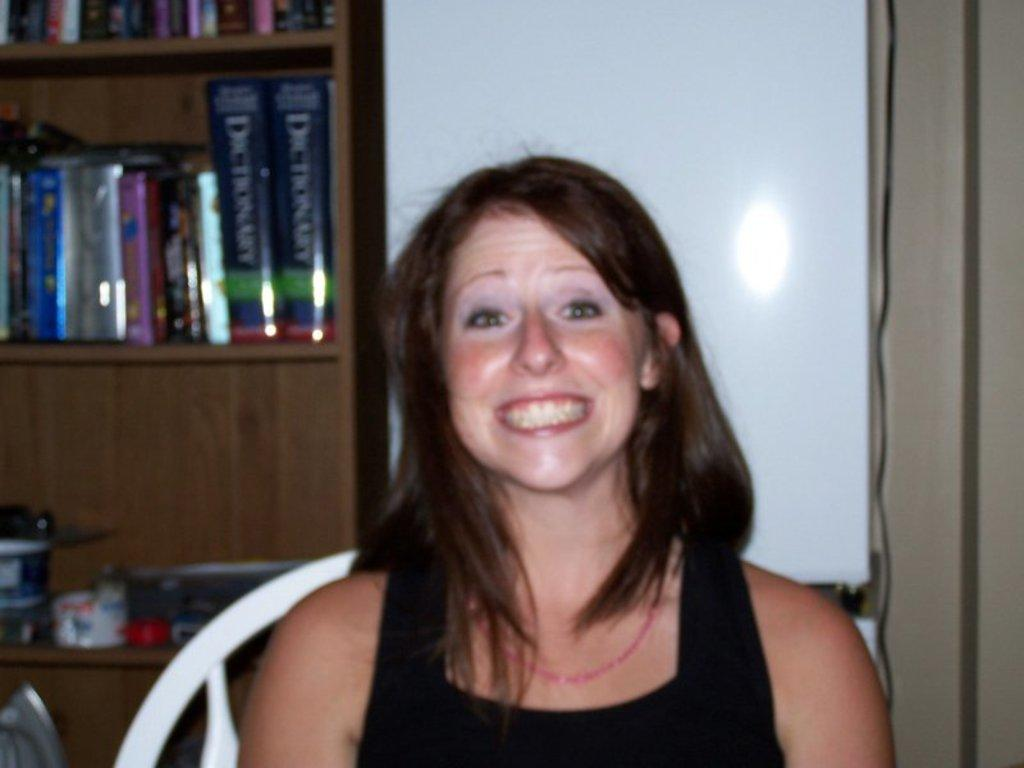Book: (0, 78, 340, 355), (5, 0, 339, 40)
